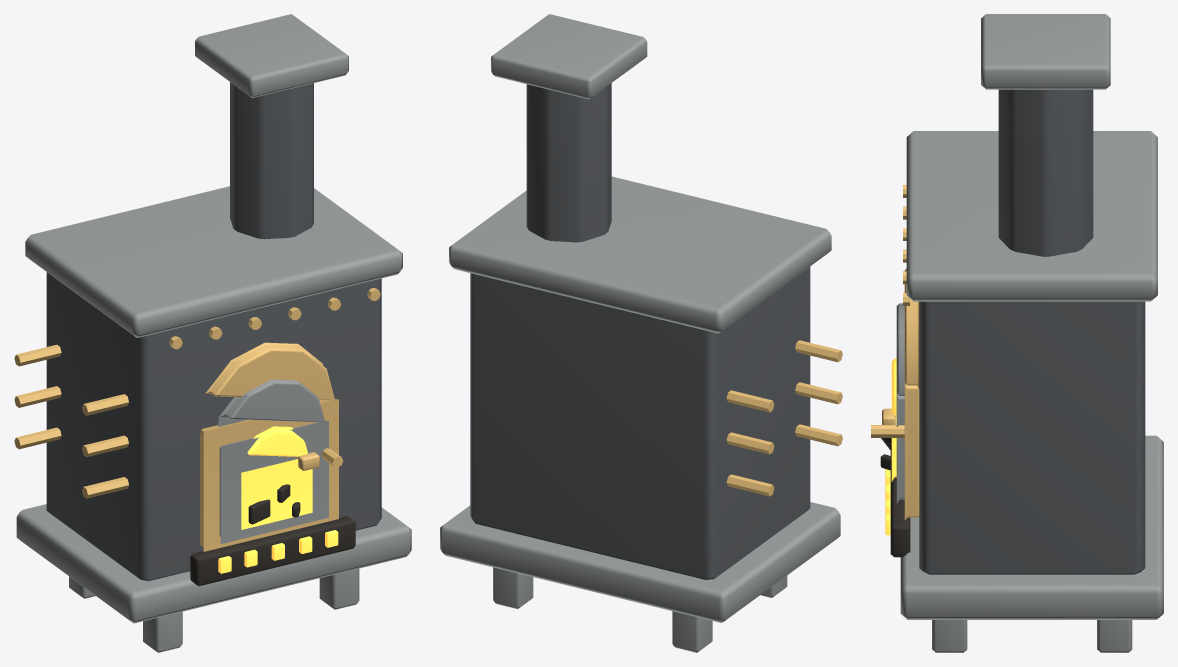
File: LowPoly_Furnace.fbx
3 views of the same model, side by side, from view 1: azimuth 30°, elevation 25°; view 2: azimuth 150°, elevation 25°; view 3: azimuth 270°, elevation 25° (orthographic). The views are drawn at different scales.
Visible parts, largest first — view 1: LPF_Body, LPF_Top_Lip, LPF_Base_Lip, LPF_Chimney, LPF_Door_Frame, LPF_Firebox_Door, LPF_Chimney_Cap, LPF_Fire_Glow, LPF_Ash_Tray, LPF_Leg_2_1, LPF_Leg_1_1, LPF_Side_Vent_Right_1 (+5 smaller); view 2: LPF_Body, LPF_Top_Lip, LPF_Base_Lip, LPF_Chimney, LPF_Chimney_Cap, LPF_Leg_1_2, LPF_Leg_2_2, LPF_Side_Vent_Left_1, LPF_Side_Vent_Left_2, LPF_Side_Vent_Left_3, LPF_Side_Vent_Right_3, LPF_Side_Vent_Right_1 (+1 smaller); view 3: LPF_Body, LPF_Top_Lip, LPF_Chimney, LPF_Base_Lip, LPF_Chimney_Cap, LPF_Door_Frame, LPF_Firebox_Door, LPF_Ash_Tray, LPF_Leg_2_1, LPF_Leg_2_2, LPF_Fire_Glow, LPF_Door_Handle.
Part boxes in pixels (x1,y1,x2,y2): LPF_Body: [46, 272, 381, 580]; LPF_Top_Lip: [25, 186, 402, 337]; LPF_Base_Lip: [16, 504, 411, 623]; LPF_Chimney: [230, 82, 313, 239]; LPF_Door_Frame: [200, 342, 338, 551]; LPF_Firebox_Door: [218, 379, 328, 543]; LPF_Chimney_Cap: [195, 14, 348, 97]; LPF_Fire_Glow: [241, 426, 312, 529]; LPF_Ash_Tray: [190, 516, 355, 586]; LPF_Leg_2_1: [319, 568, 359, 609]; LPF_Leg_1_1: [143, 611, 182, 652]; LPF_Side_Vent_Right_1: [14, 427, 61, 449]; LPF_Body: [470, 266, 810, 579]; LPF_Top_Lip: [449, 176, 831, 333]; LPF_Base_Lip: [440, 502, 840, 622]; LPF_Chimney: [526, 83, 611, 242]; LPF_Chimney_Cap: [491, 14, 647, 99]; LPF_Leg_1_2: [672, 611, 712, 652]; LPF_Leg_2_2: [493, 567, 533, 609]; LPF_Side_Vent_Left_1: [795, 424, 842, 446]; LPF_Side_Vent_Left_2: [795, 382, 842, 404]; LPF_Side_Vent_Left_3: [795, 340, 842, 362]; LPF_Side_Vent_Right_3: [726, 390, 774, 412]; LPF_Side_Vent_Right_1: [726, 474, 774, 496]; LPF_Body: [919, 301, 1145, 574]; LPF_Top_Lip: [906, 131, 1157, 301]; LPF_Chimney: [998, 89, 1093, 256]; LPF_Base_Lip: [900, 435, 1163, 619]; LPF_Chimney_Cap: [981, 14, 1110, 89]; LPF_Door_Frame: [904, 268, 919, 519]; LPF_Firebox_Door: [896, 303, 904, 504]; LPF_Ash_Tray: [890, 451, 910, 557]; LPF_Leg_2_1: [932, 620, 967, 652]; LPF_Leg_2_2: [1097, 620, 1132, 652]; LPF_Fire_Glow: [891, 358, 896, 481]; LPF_Door_Handle: [871, 425, 904, 437].
Size of the model in its own units: 2 by 3.34 by 1.49.
